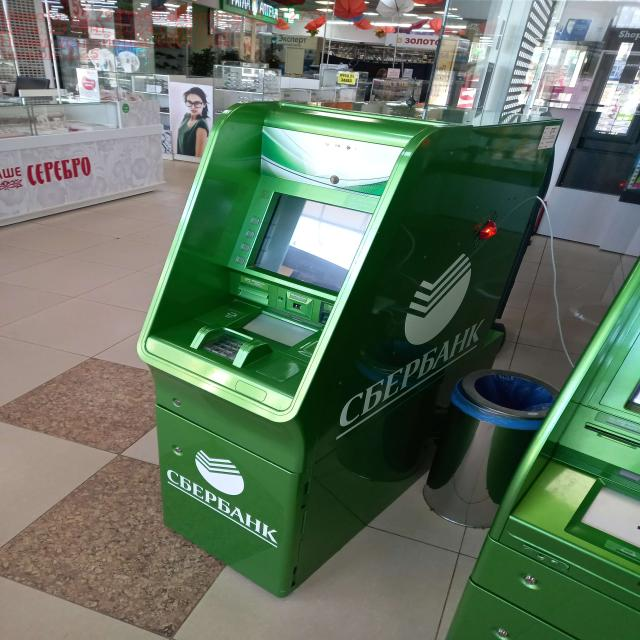bank: (141, 96, 560, 599), (434, 247, 640, 640)
